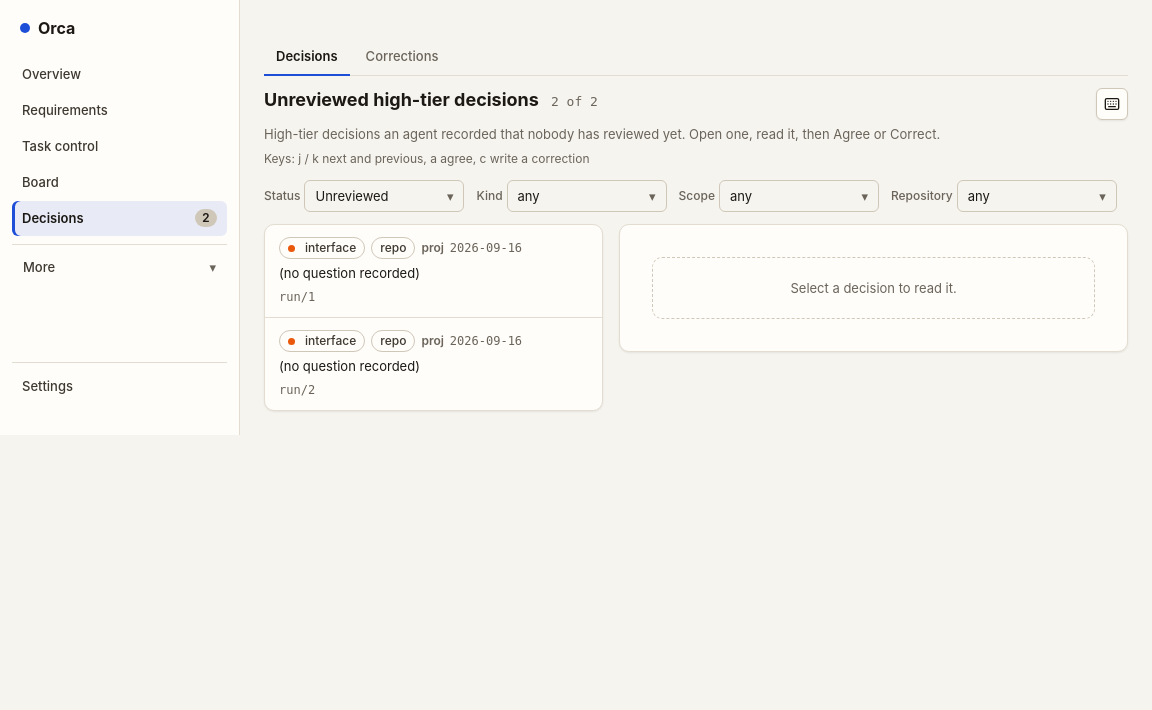
withdrawing in the page (spec §7, §10.1) › never moves on to the next row, even when the re-read list has dropped the open one (spec §10.1)
Click the button "interface repo proj 2026-09-16 (no question recorded) run/1": (322, 248) [265, 225, 602, 317]
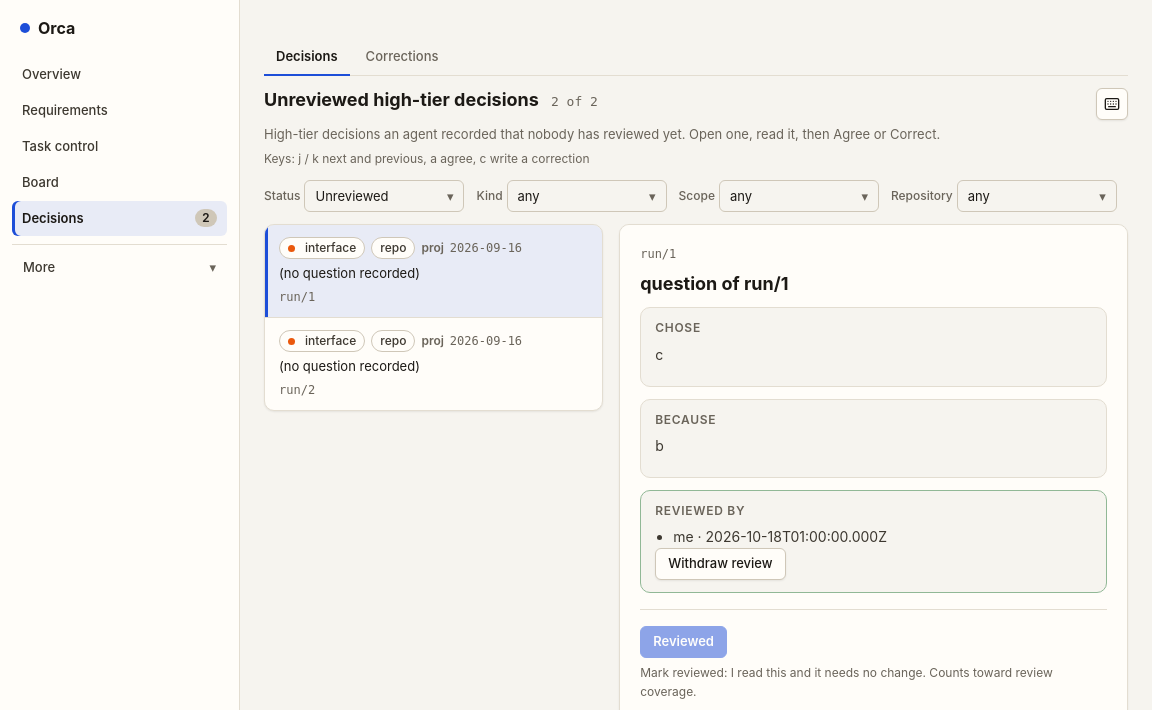
expect the heading with test id "decision-question" reads "question of run/1": met, box [640, 273, 788, 294]
Click the button "Withdraw review": (720, 564) [655, 548, 786, 580]
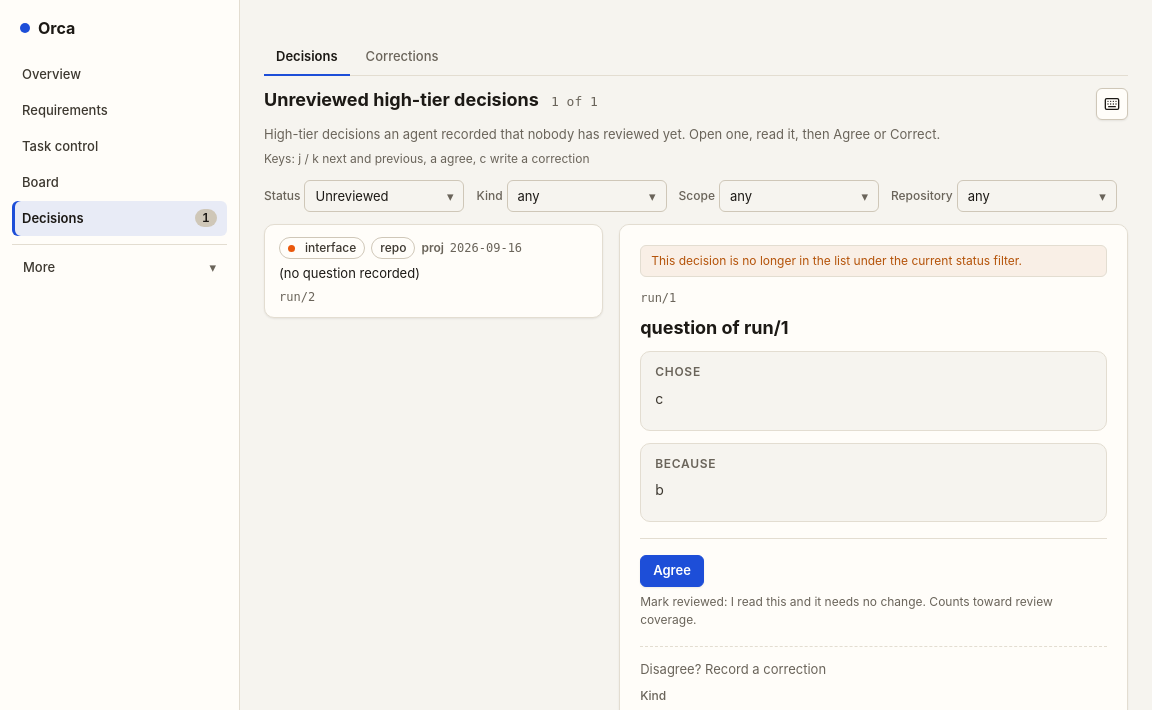
expect the heading with test id "decision-question" reads "question of run/1": met, box [640, 317, 788, 338]
expect the button "Agree" is enabled: met, box [640, 555, 704, 587]
